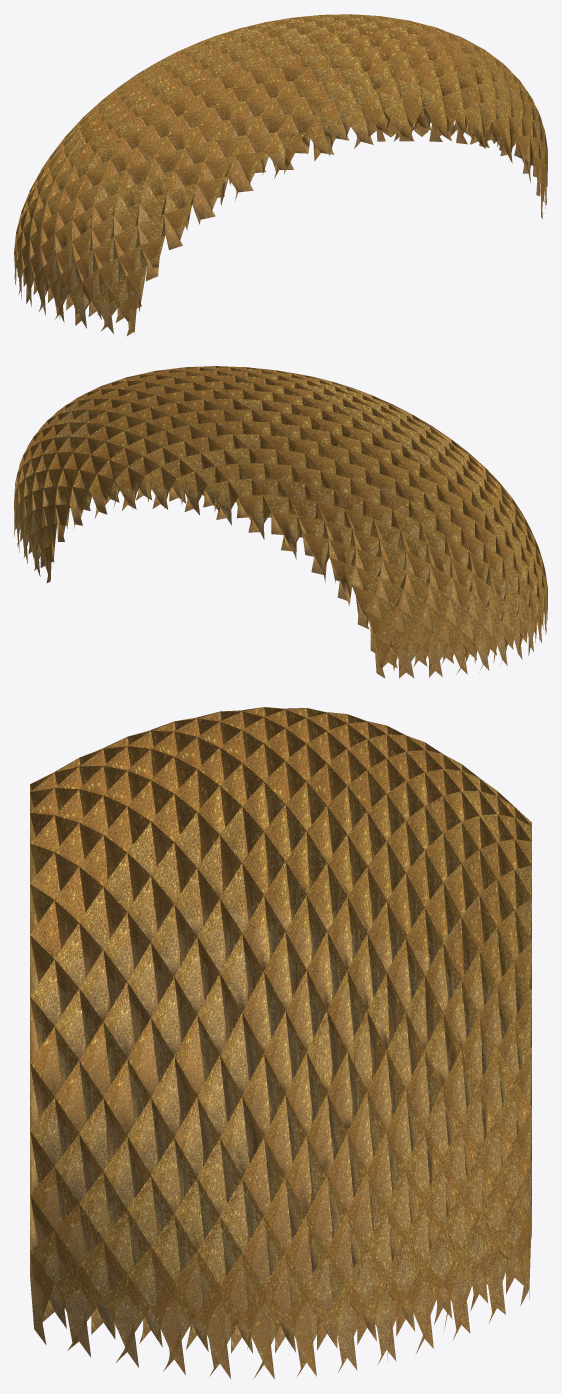
3 renders of one model, top to bottom at view 1: azimuth 30°, elevation 25°; view 2: azimuth 150°, elevation 25°; view 3: azimuth 270°, elevation 25°, orthographic. The views are drawn at different scales.
Parts seen in each view (by area): view 1: [0]; view 2: [0]; view 3: [0].
Boxes of the visible parts, x1,y1,x2,y2 form: [0]: (14,14,547,336); [0]: (14,366,547,678); [0]: (30,707,531,1378).
Size of the model in its own units: 4.61 by 1.75 by 1.99.
Materials: 1 (1 with a texture image).
